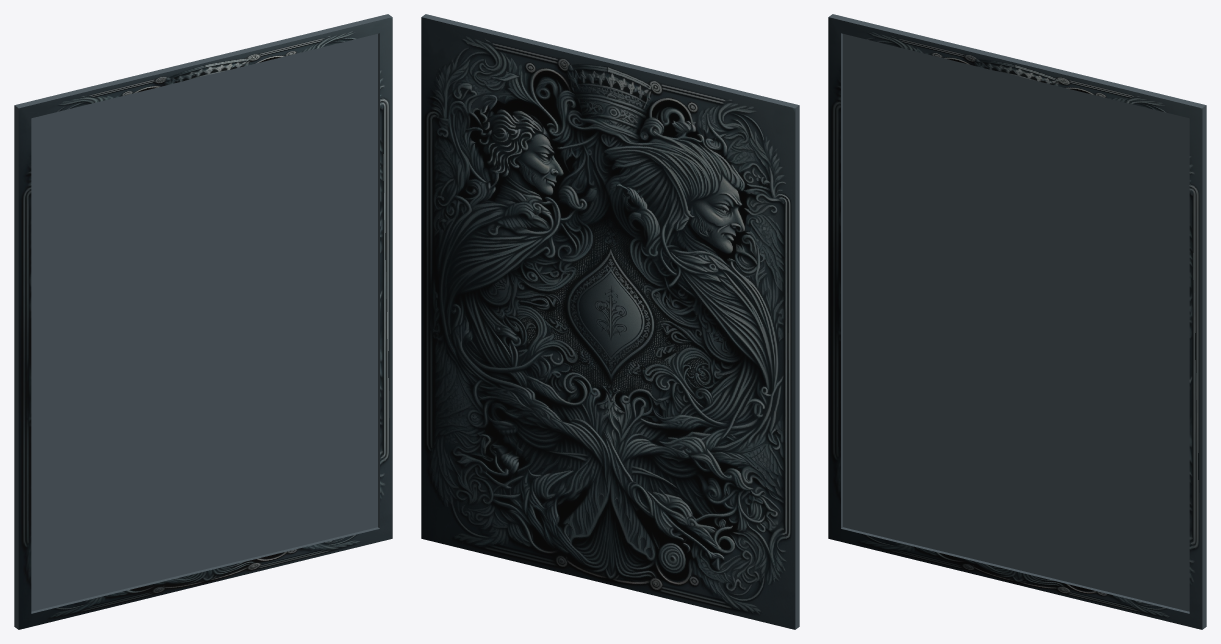
The model's file is card-back-1.fbx.
3 views of the same model, side by side, from view 1: azimuth 30°, elevation 25°; view 2: azimuth 150°, elevation 25°; view 3: azimuth 330°, elevation 25° (orthographic).
Parts seen in each view (by area): view 1: Cube; view 2: Cube; view 3: Cube.
Part boxes in pixels (left/top/right/bottom): Cube: left=14, top=14, right=392, bottom=629; Cube: left=421, top=14, right=799, bottom=629; Cube: left=828, top=14, right=1206, bottom=629.
Bounding box in the file's own units: 300 × 400 × 6.
